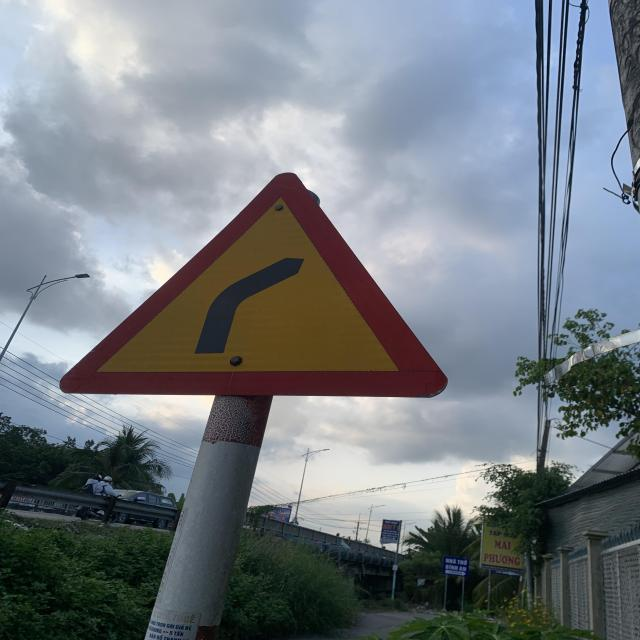Duong_Nguoi_Di_Bo_Cat_Ngang: (53, 170, 447, 395)
